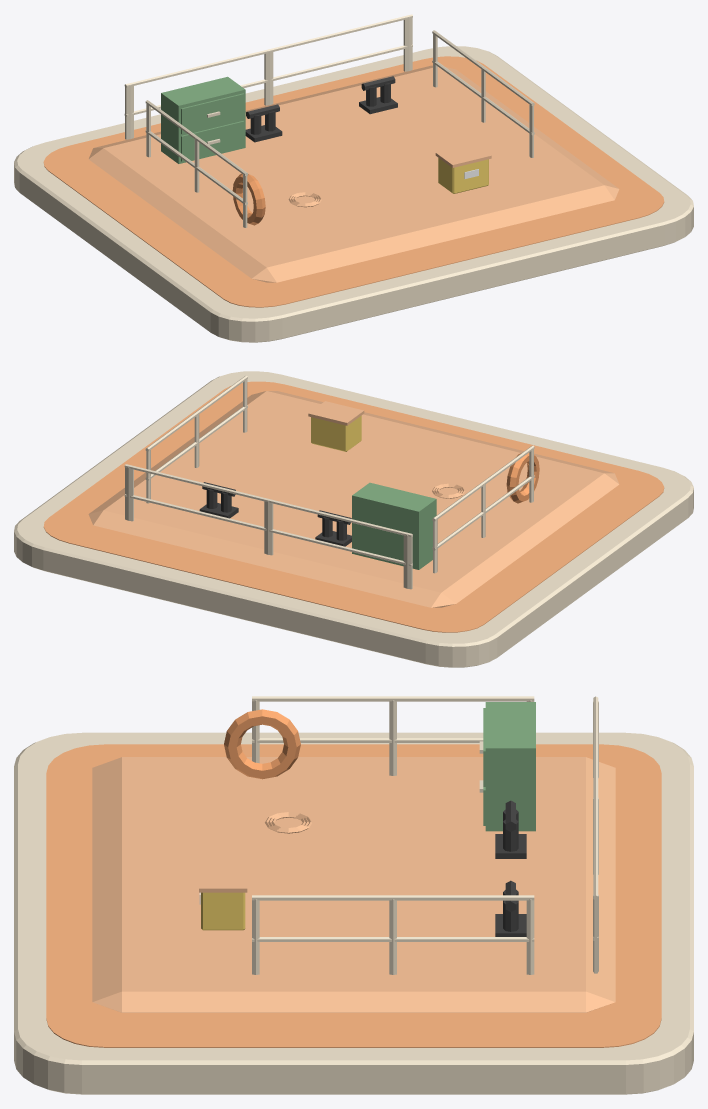
3 views of the same model, one above another, from view 1: azimuth 30°, elevation 25°; view 2: azimuth 150°, elevation 25°; view 3: azimuth 270°, elevation 25° (orthographic). The views are drawn at different scales.
Parts seen in each view (by area): view 1: Deck, COM-01 Rounded Base Direct, COM-02 Floor Surface, Cabinet, Box, Rail.005, Life ring, Lid, Rail.004, Rail.003, Rail.001, Rail.002 (+3 smaller); view 2: Deck, COM-01 Rounded Base Direct, COM-02 Floor Surface, Cabinet, Box, Rail.005, Rail.004, Life ring, Lid, Rail.001, Rail.003, Rail (+4 smaller); view 3: Deck, COM-01 Rounded Base Direct, COM-02 Floor Surface, Cabinet, Life ring, Box, Rail.001, Rail.003, Lid, Rail.002, Rail.005, Rail (+1 smaller).
Boxes of the visible parts, x1,y1,x2,y2 form: Deck: (88,65,619,282); COM-01 Rounded Base Direct: (14,46,693,342); COM-02 Floor Surface: (43,56,664,307); Cabinet: (161,76,245,163); Box: (438,158,488,193); Rail.005: (124,14,412,87); Life ring: (232,173,265,225); Lid: (435,143,491,167); Rail.004: (124,44,412,116); Rail.003: (432,30,534,106); Rail.001: (145,100,247,176); Rail.002: (432,60,534,135); Deck: (88,391,619,607); COM-01 Rounded Base Direct: (14,371,693,667); COM-02 Floor Surface: (43,381,664,632); Cabinet: (352,482,436,569); Box: (311,415,361,451); Rail.005: (124,464,412,537); Rail.004: (124,494,412,566); Life ring: (506,453,539,503); Lid: (308,401,364,425); Rail.001: (432,445,534,521); Rail.003: (145,375,247,451); Rail: (432,475,534,550); Deck: (92,757,615,1012); COM-01 Rounded Base Direct: (14,732,693,1094); COM-02 Floor Surface: (46,744,661,1047); Cabinet: (479,702,535,831); Life ring: (224,709,300,779); Box: (201,892,245,930); Rail.001: (252,696,534,701); Rail.003: (252,895,534,900); Lid: (199,861,247,892); Rail.002: (252,937,534,941); Rail.005: (593,696,598,900); Rail: (252,738,483,742).
Bounding box in the file's own units: 6 × 1.18 × 5.2.
1 material, 1 textured.
